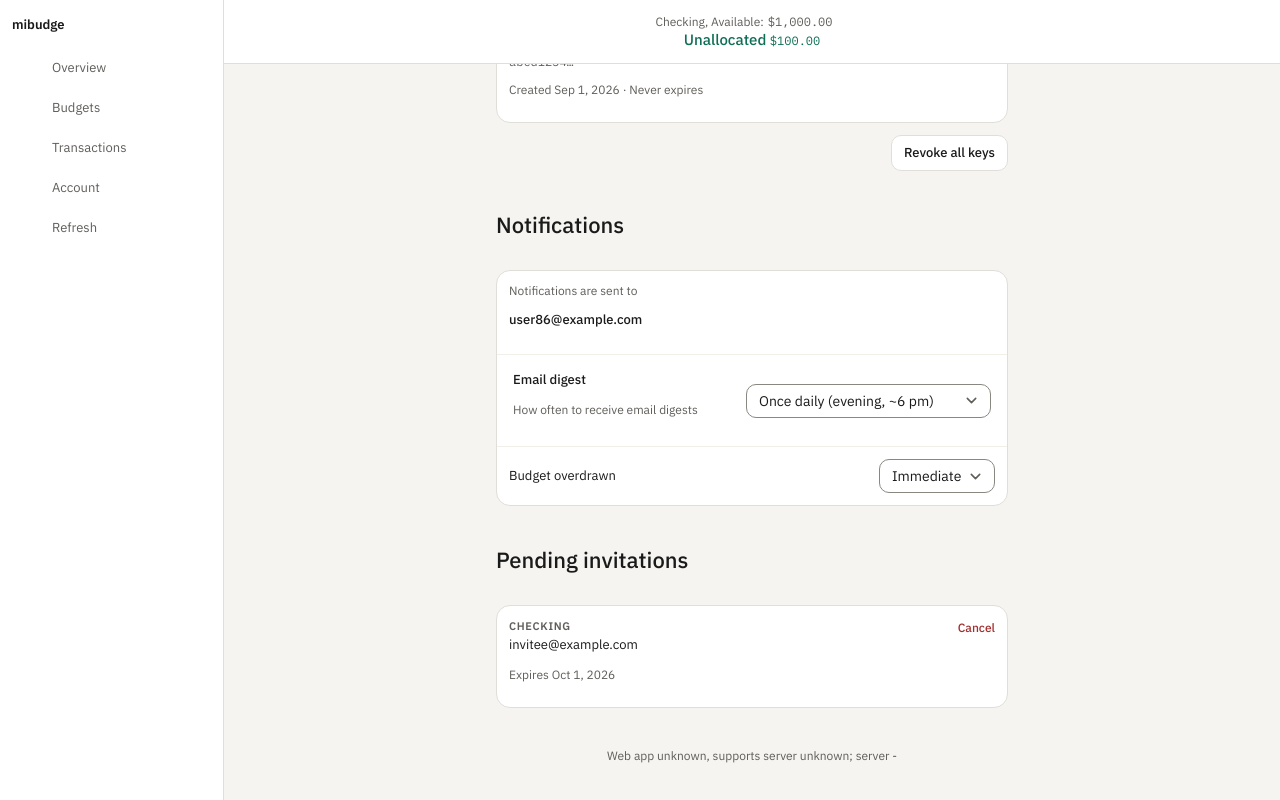
AccountSettingsView › shows the saved digest frequency after a refused change
This screenshot has width=1280, height=800.
(page scrolled)
Select "Weekly on Friday" in the dropdown next to "How often to receive email digests" at [868, 400], box [746, 384, 991, 418]
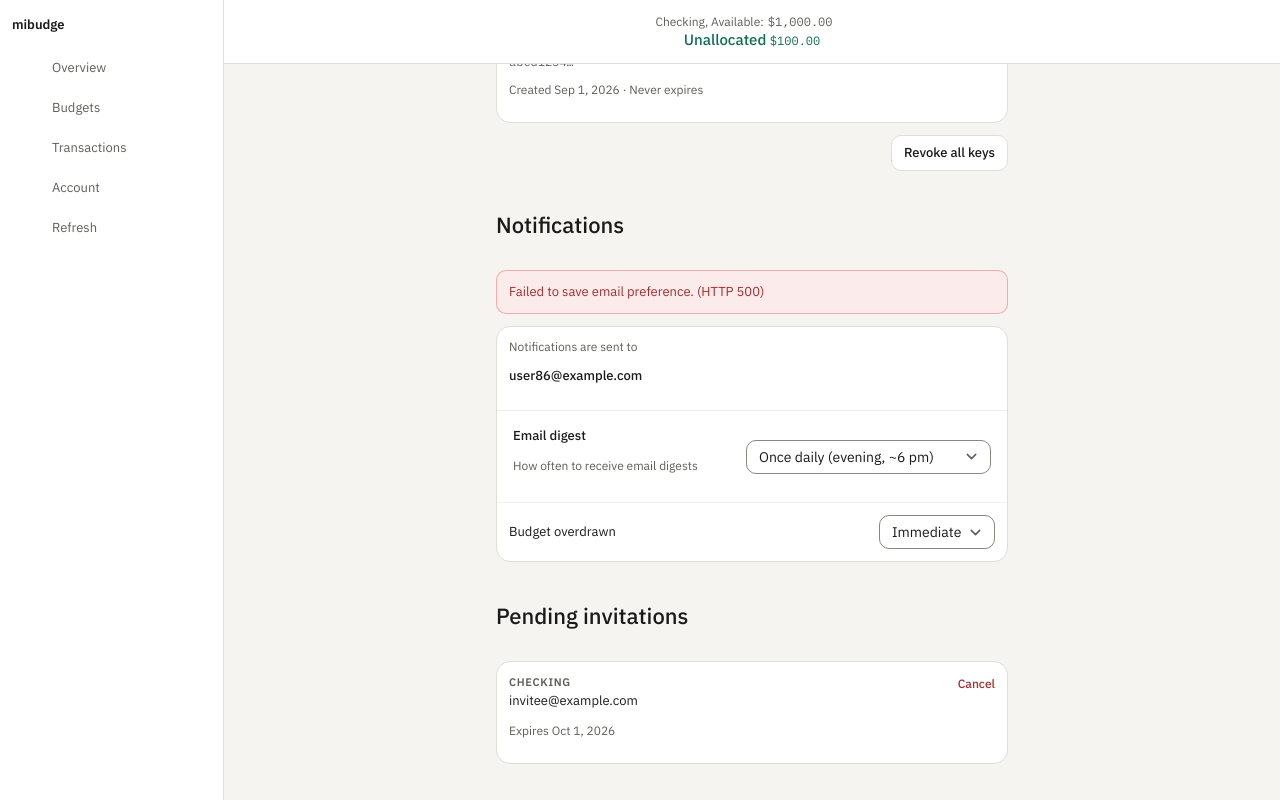
expect the text "Failed to save email preference." is shown: met, box [509, 283, 764, 300]
